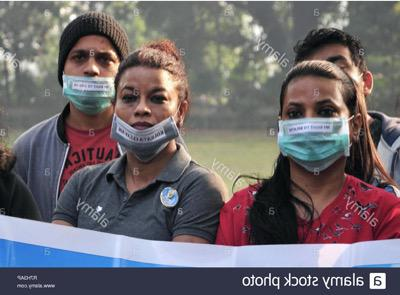mask_weared_incorrect: (115, 81, 177, 159), (60, 44, 121, 114)
with_mask: (280, 96, 350, 171)
